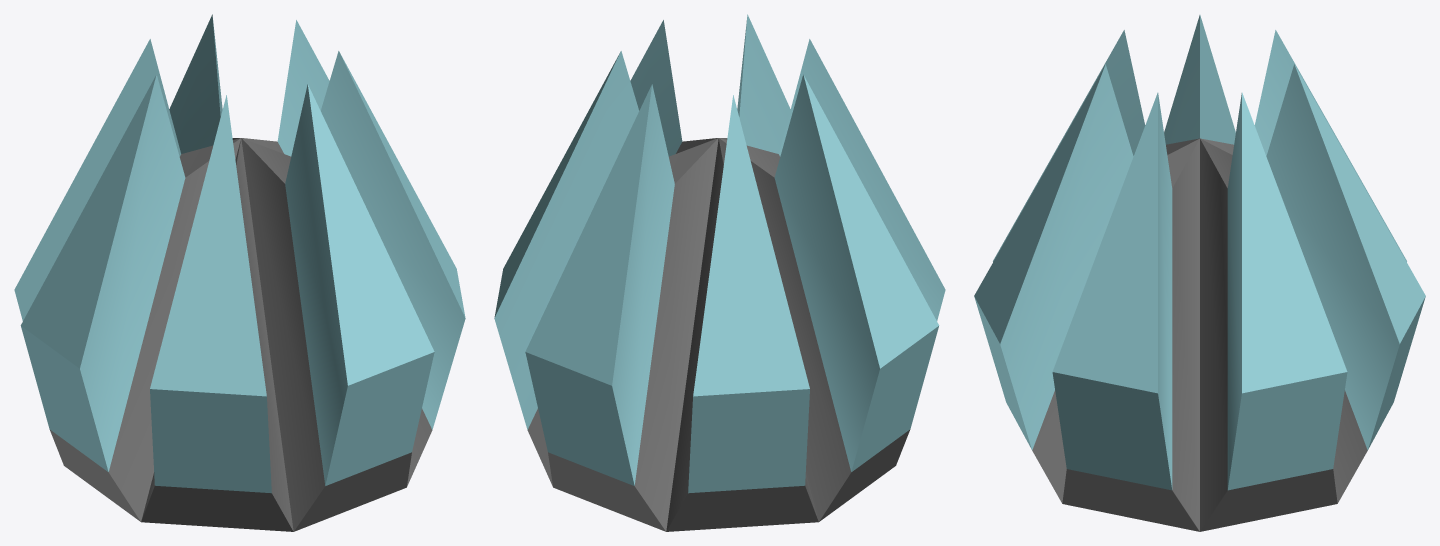
The model's file is corrupted matrix.fbx.
The picture shows the model from 3 angles, left to right: view 1: azimuth 30°, elevation 25°; view 2: azimuth 150°, elevation 25°; view 3: azimuth 270°, elevation 25°; orthographic projection.
Parts seen in each view (by area): view 1: pCone2; view 2: pCone2; view 3: pCone2.
Boxes of the visible parts, x1,y1,x2,y2 form: pCone2: (14,14,465,531); pCone2: (494,14,945,531); pCone2: (974,15,1425,531).
Bounding box in the file's own units: 2.5 × 2.52 × 2.57.
